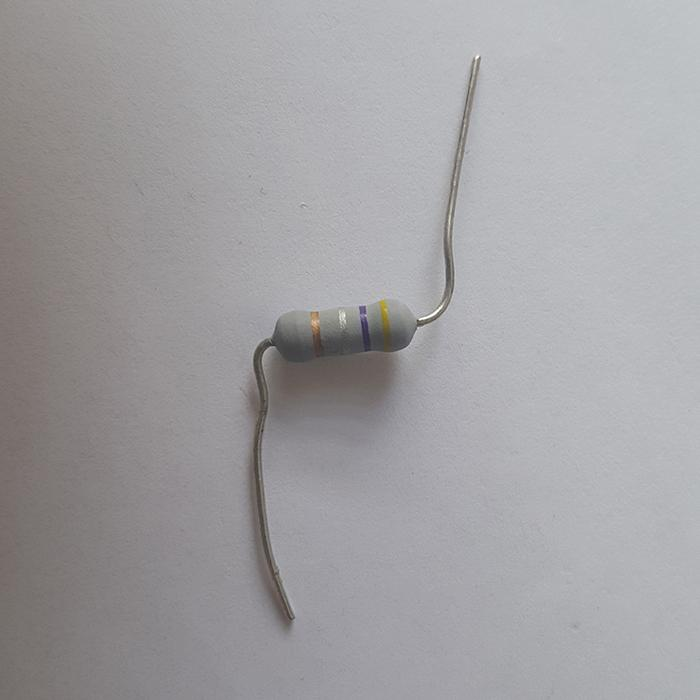resistor: (271, 295, 419, 362)
